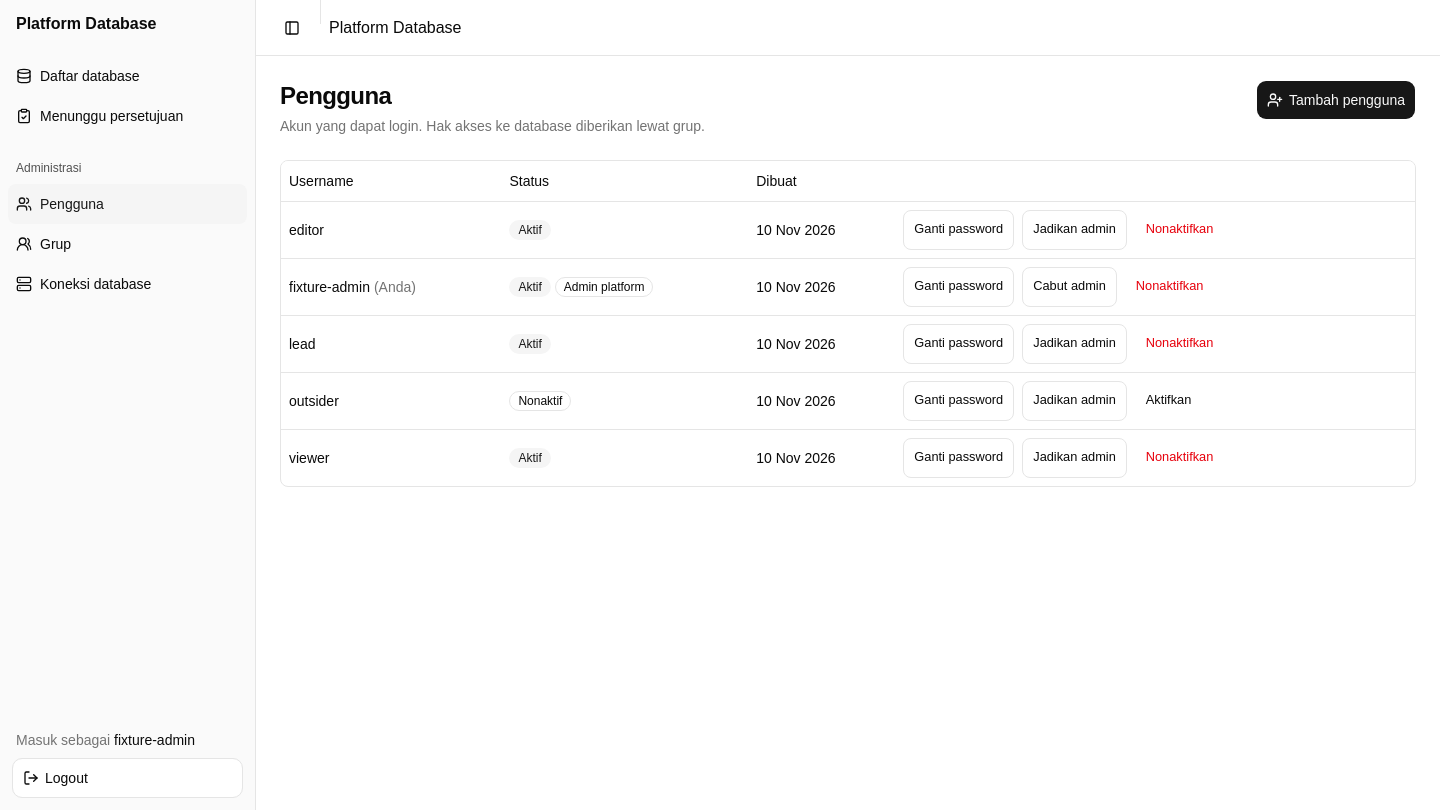
user administration › shows the password rule from the API next to the field
Click the button "Tambah pengguna": (1336,100) [1256, 80, 1416, 120]
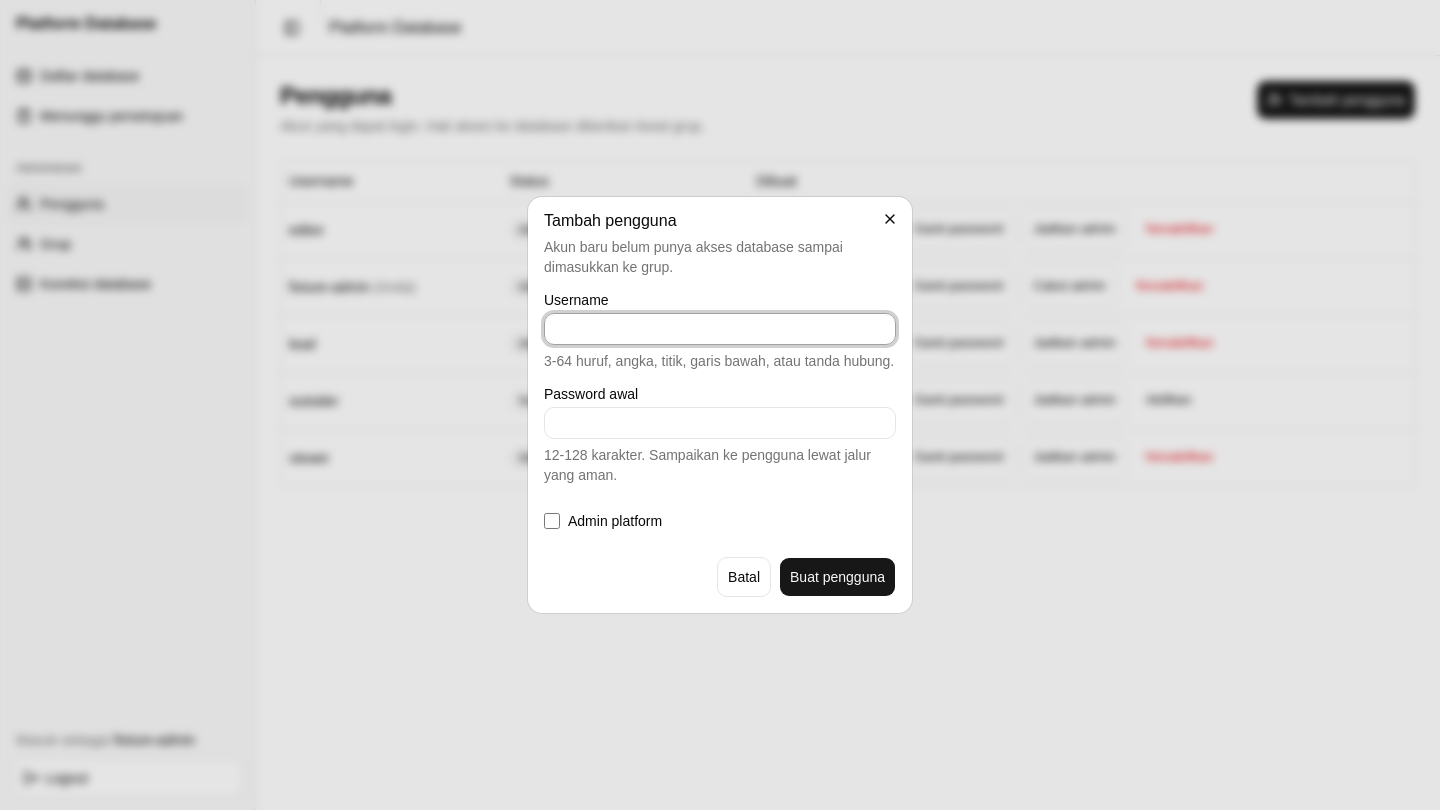
In the field labelled "Username": (720,329) [544, 313, 896, 345], type "baru"
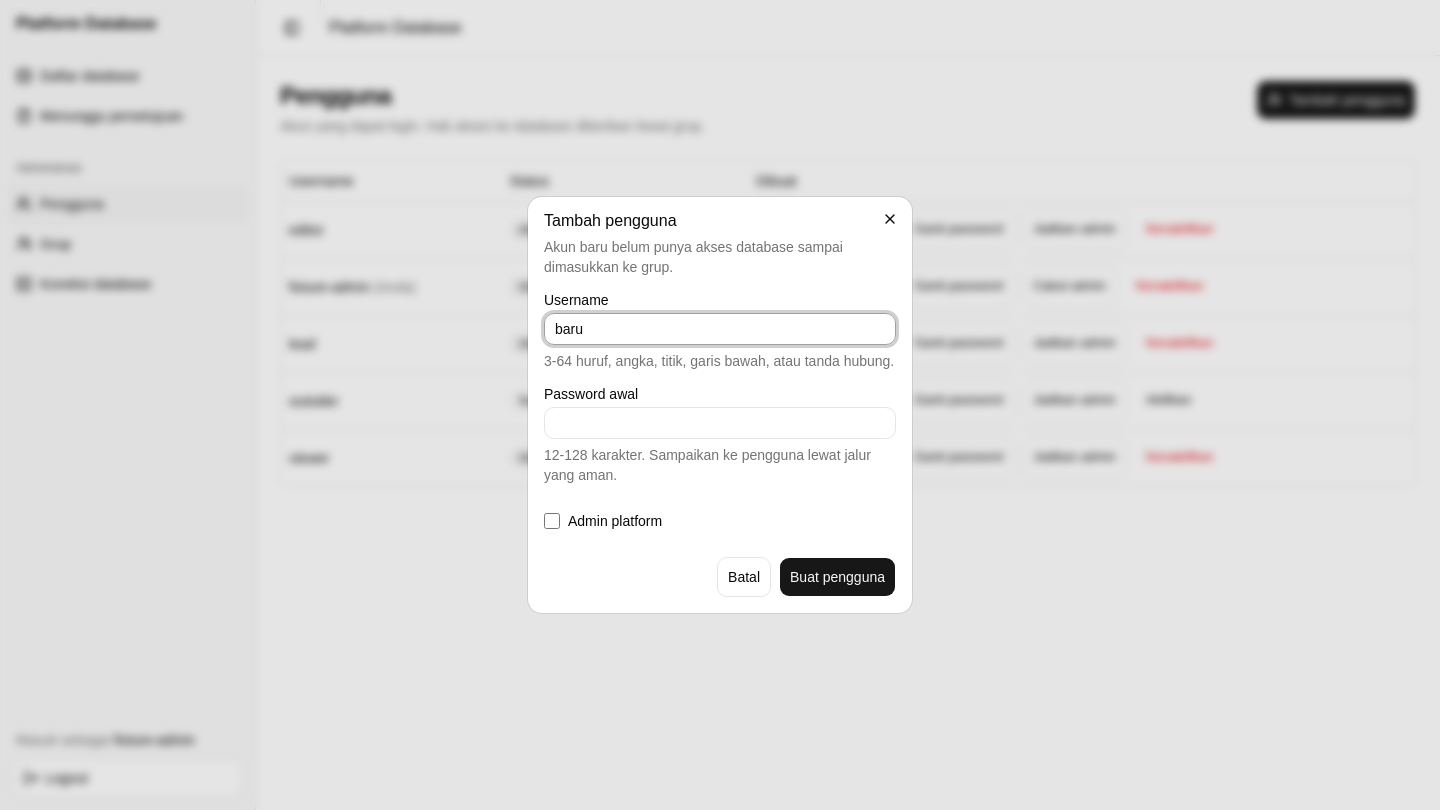
In the password field labelled "Password awal": (720,423) [544, 407, 896, 439], type "password-cukup-panjang"
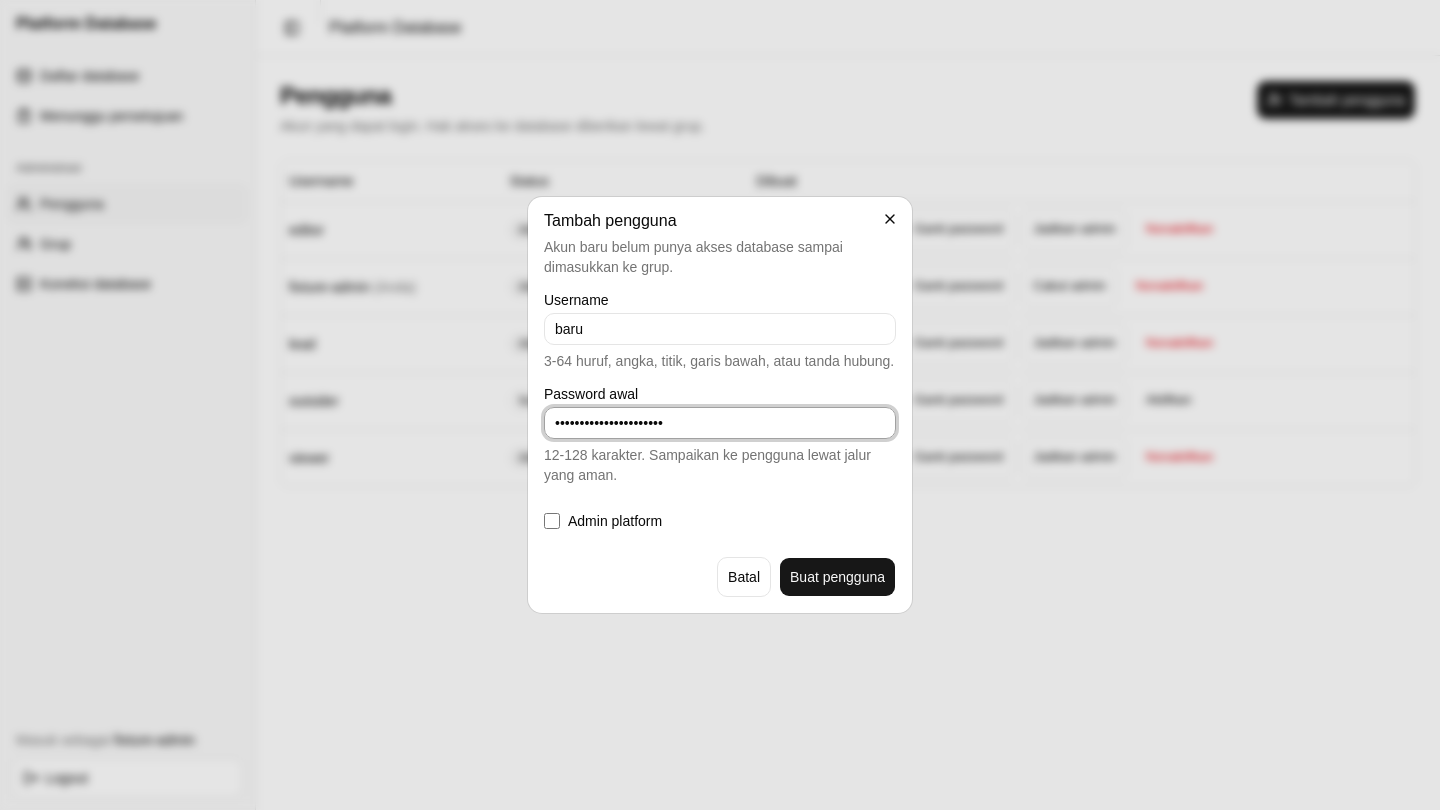
Click the button "Buat pengguna": (838,577) [779, 557, 896, 597]
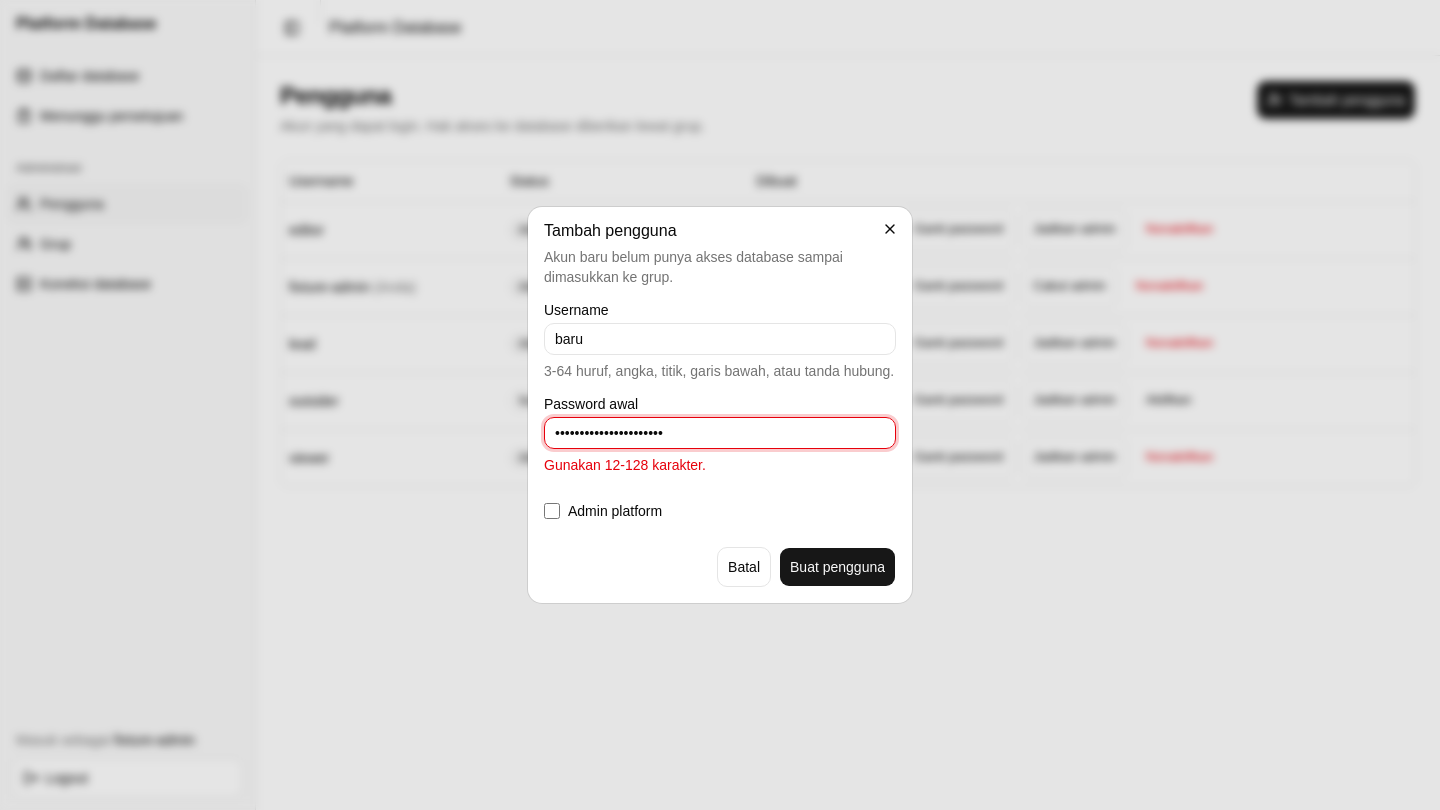
Check: the text "Gunakan 12-128 karakter." is shown, box [544, 457, 706, 473]
